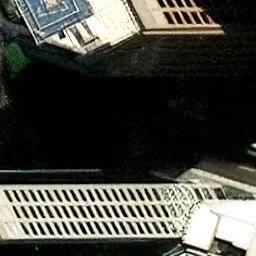heliponto: (25, 0, 79, 30)
